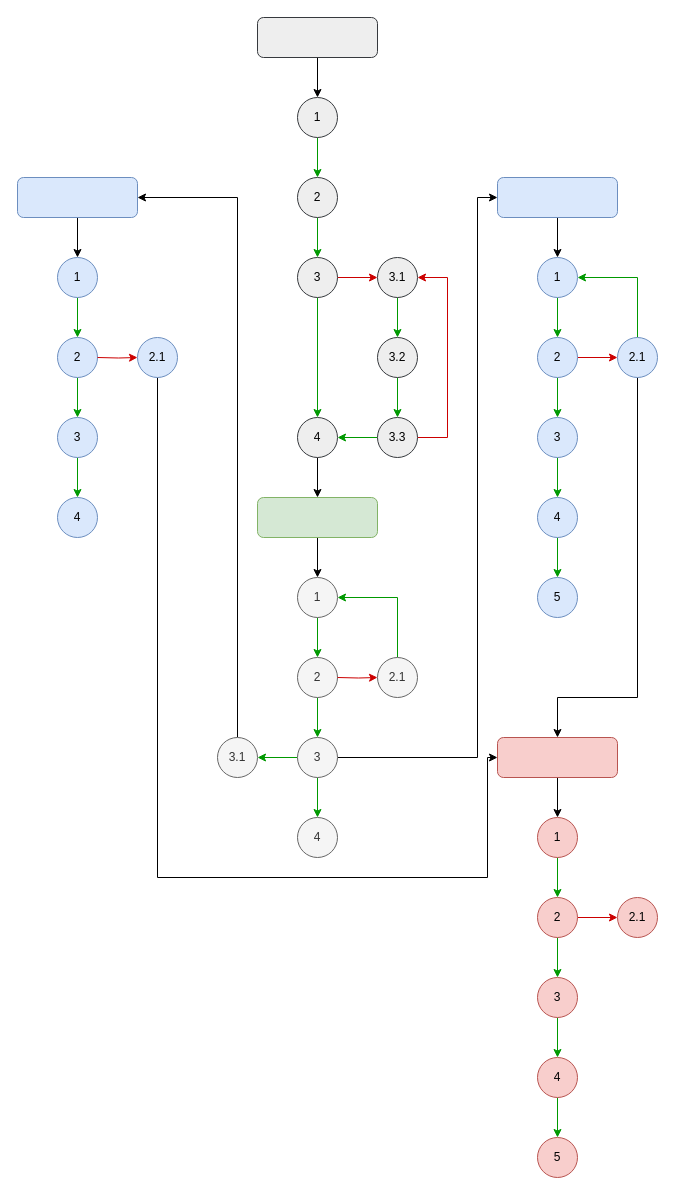
This 675x1195 diagram has some shape labels left out. The box of each missing label's shape, as (x1, y1, x2, y2) in pixels:
HU #1: Login: (256, 16, 378, 58)
HU #2: Feed: (256, 496, 378, 538)
HU #3: Categorías: (16, 176, 138, 218)
HU #4: Publicación: (496, 176, 618, 218)
HU #5: Error: (496, 736, 618, 778)
